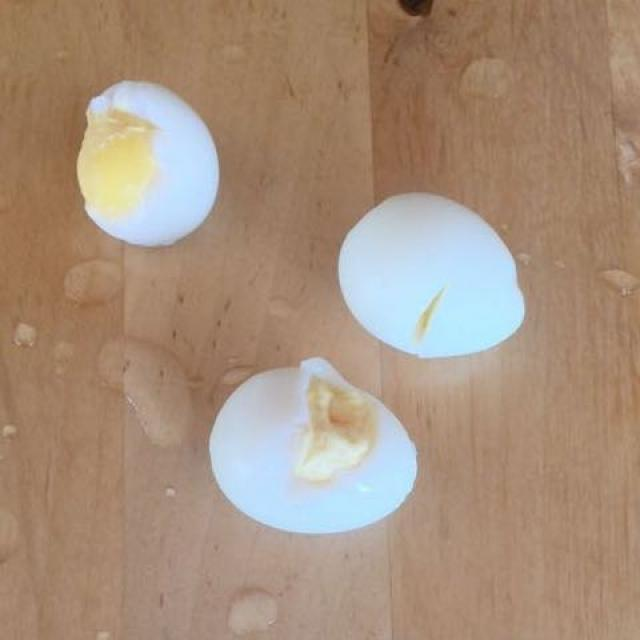egg: (63, 75, 538, 530)
